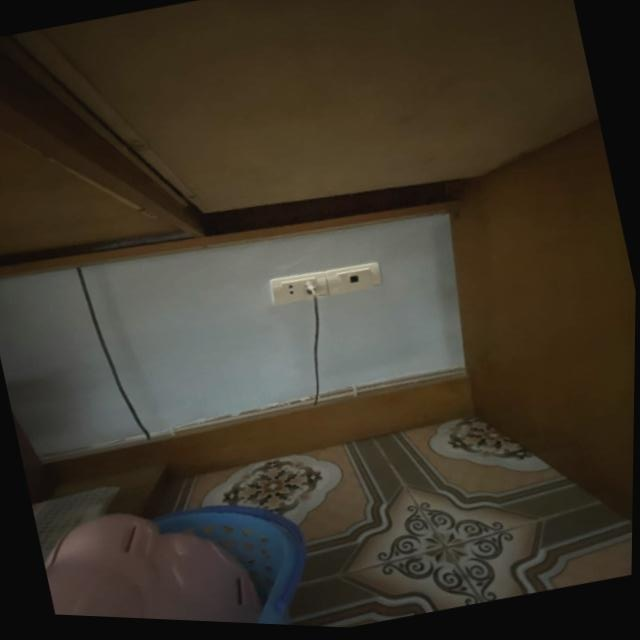outlet: (269, 267, 331, 308), (326, 258, 385, 298)
